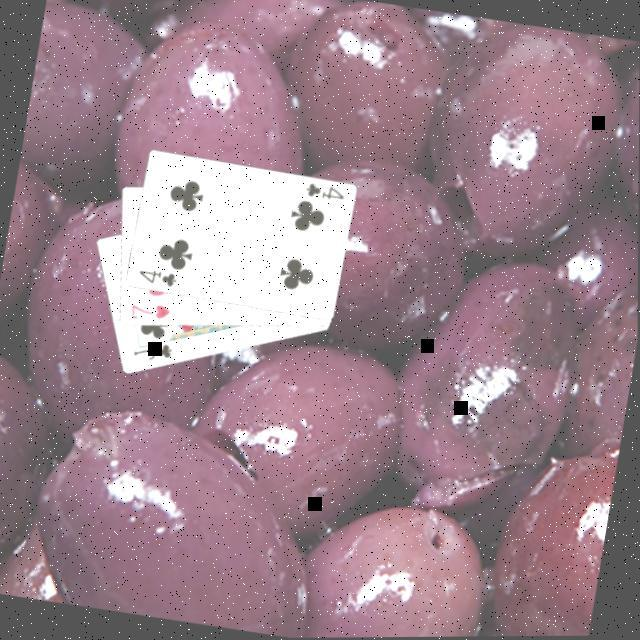4C: (300, 178, 349, 205), (133, 263, 180, 290)
7H: (125, 296, 174, 326)
JC: (128, 335, 176, 367)
